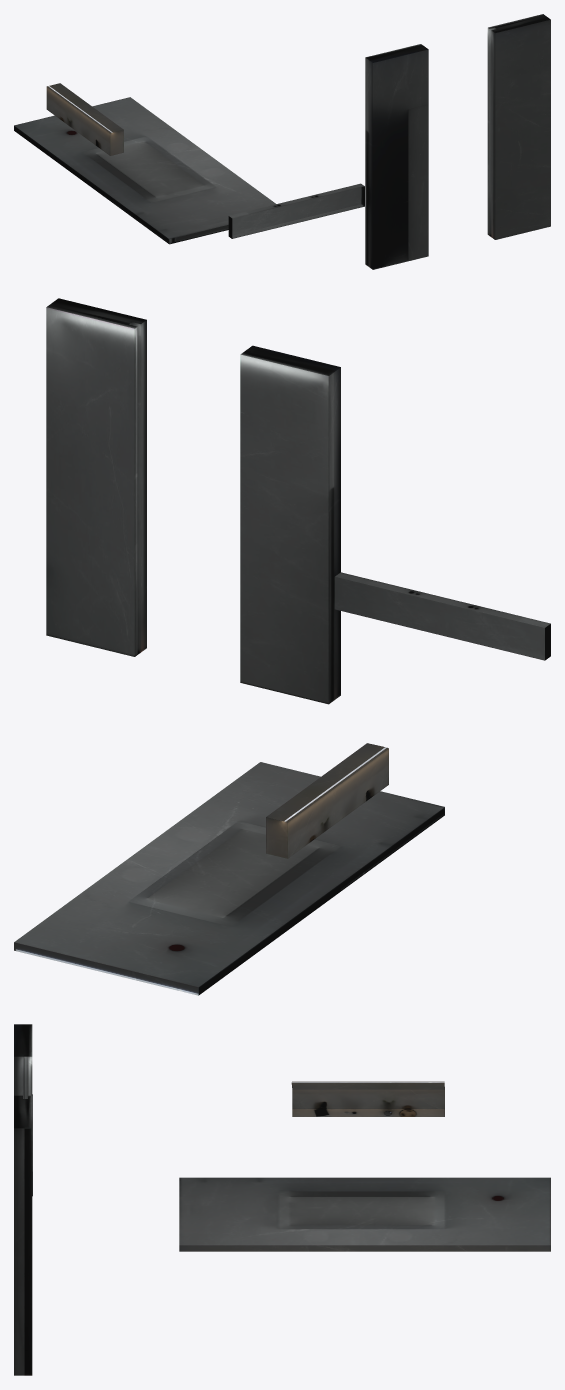
The model's file is WallWaterCloset_Armani_Liath.glb.
3 views of the same model, one above another, from view 1: azimuth 30°, elevation 25°; view 2: azimuth 150°, elevation 25°; view 3: azimuth 270°, elevation 25° (orthographic). The views are drawn at different scales.
Parts seen in each view (by area): view 1: WallWaterCloset_Armani_Liath; view 2: WallWaterCloset_Armani_Liath; view 3: WallWaterCloset_Armani_Liath.
Part boxes in pixels (x1,y1,x2,y2): WallWaterCloset_Armani_Liath: (14,14,550,269); WallWaterCloset_Armani_Liath: (14,298,550,995); WallWaterCloset_Armani_Liath: (14,1024,550,1375).
Size of the model in its own units: 16.2 by 9.87 by 19.4.
1 material, 1 textured.
